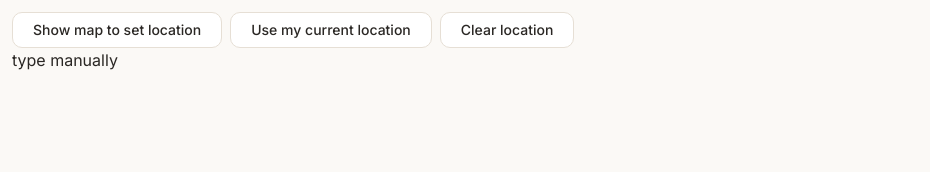
Test: CoordinatePicker — use my current location (ATP-80) › error code 1 shows its message, writes nothing and keeps the map closed
The image size is (930, 172).
Click the button "Use my current location": (331, 30) [230,12,432,48]
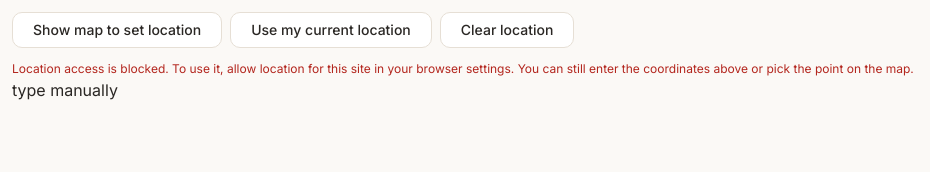
Result: the message shows "enter the coordinates above or pick the point on the map" at [12,61,914,76]
